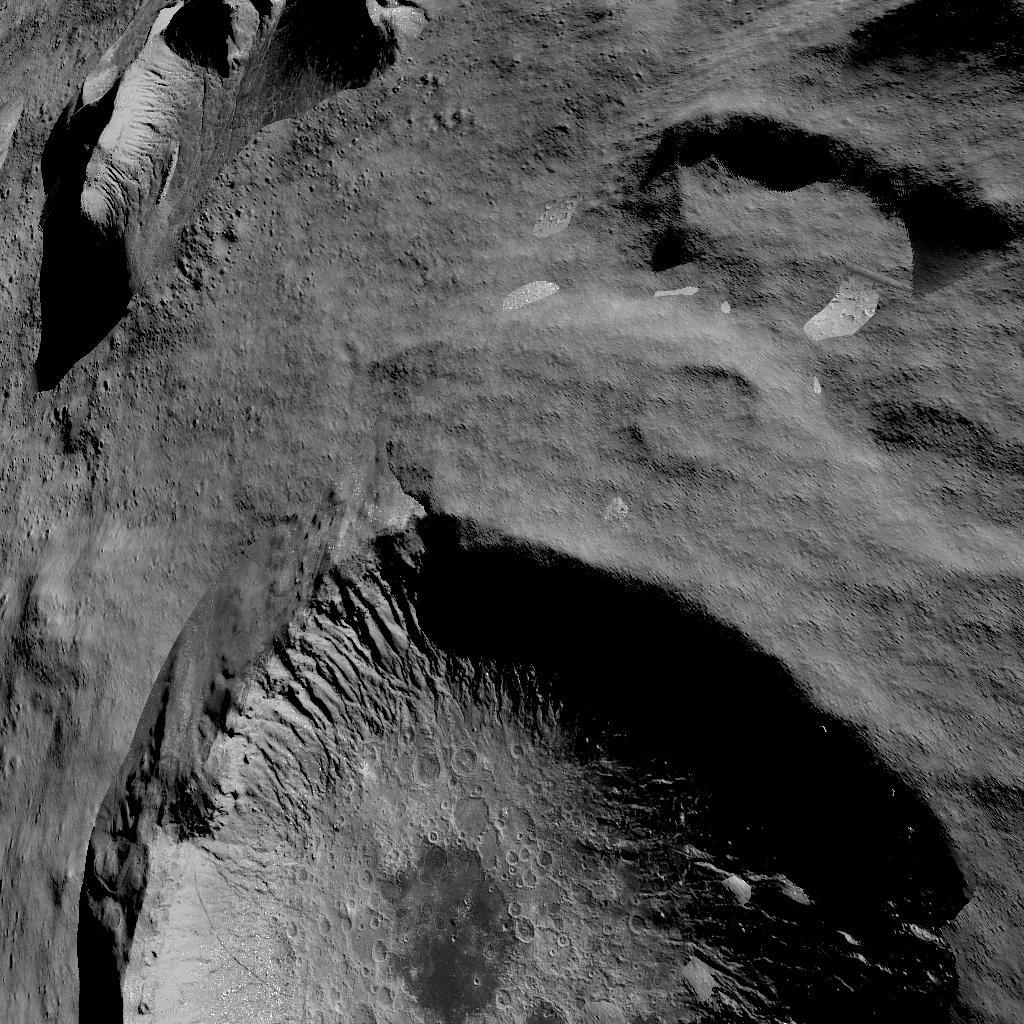Boulders: (92, 0, 454, 395), (0, 86, 80, 346)
Crater: (191, 500, 1024, 1024), (664, 81, 1024, 281), (657, 334, 818, 474)
